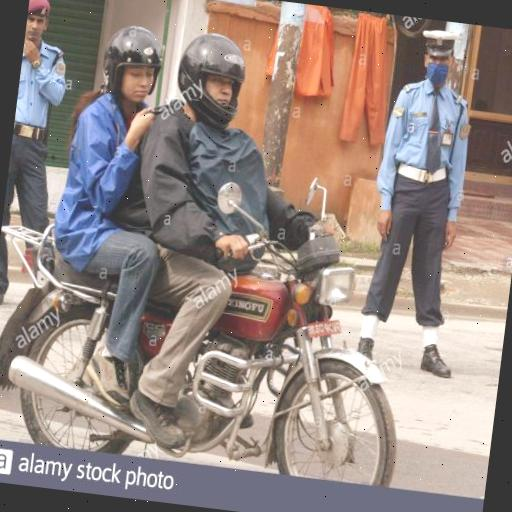helmet: (110, 8, 393, 490)
